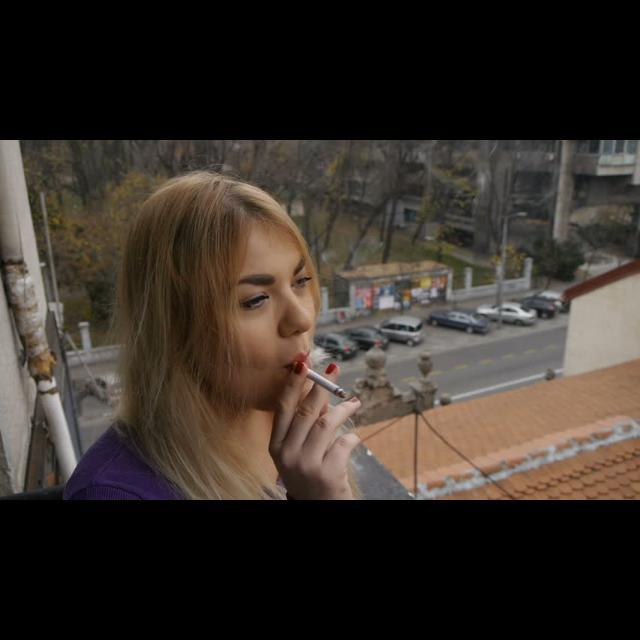rokok: (296, 361, 348, 401)
